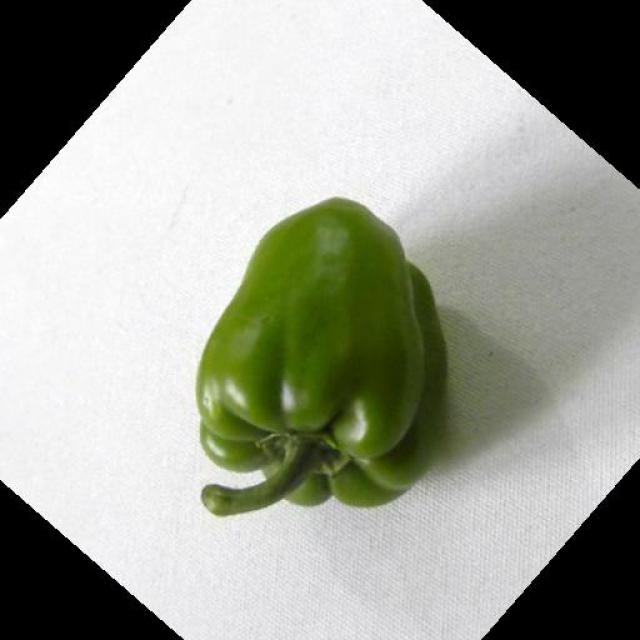Fresh_Capsicum: (159, 196, 468, 514)
